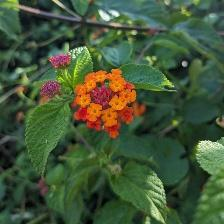common lanthana: (74, 63, 138, 136)
